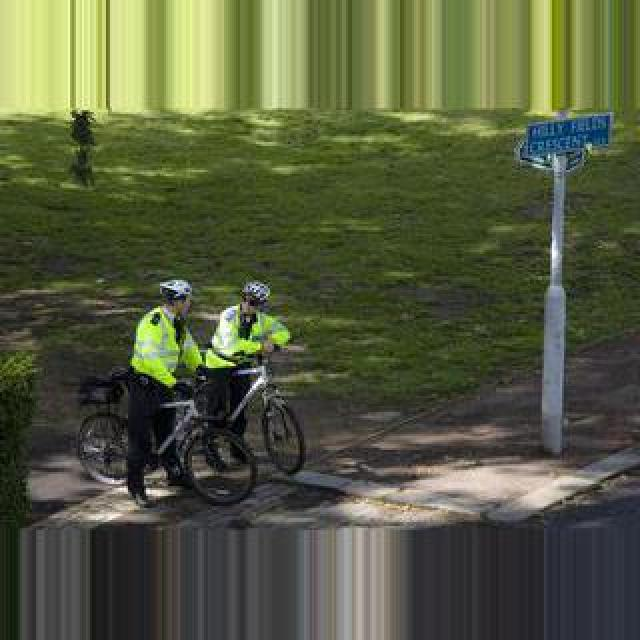MC-Bike: (126, 278, 204, 496), (204, 280, 292, 460)
Person: (72, 368, 256, 506), (194, 354, 308, 478)
